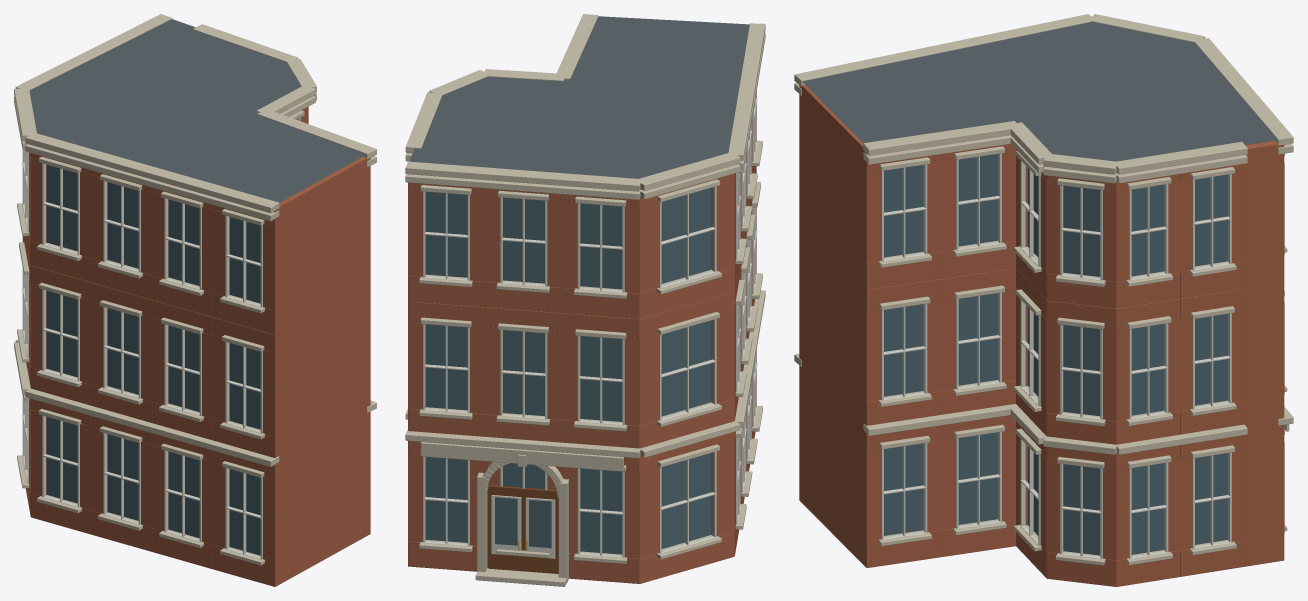
File: 50l-exterior-86458ddc8177.glb
3 views of the same model, side by side, from view 1: azimuth 30°, elevation 25°; view 2: azimuth 150°, elevation 25°; view 3: azimuth 270°, elevation 25° (orthographic). The views are drawn at different scales.
Parts seen in each view (by area): view 1: 50L.001; view 2: 50L.001; view 3: 50L.001.
Boxes of the visible parts, x1=… form: 50L.001: x1=14, y1=14, x2=376, y2=586; 50L.001: x1=405, y1=14, x2=765, y2=586; 50L.001: x1=794, y1=14, x2=1293, y2=586.
Size of the model in its own units: 10.16 by 12.95 by 13.87.
